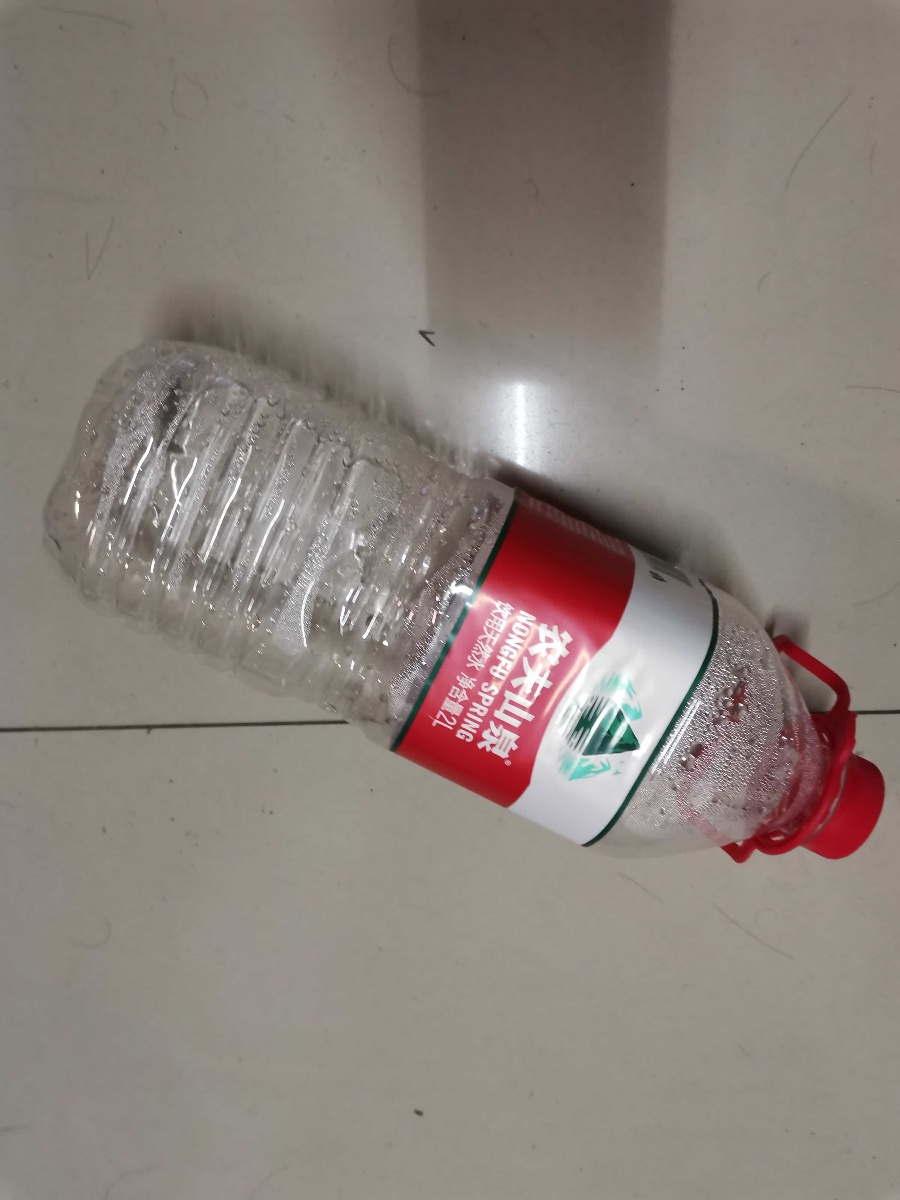plastic bottle: (29, 326, 889, 877)
